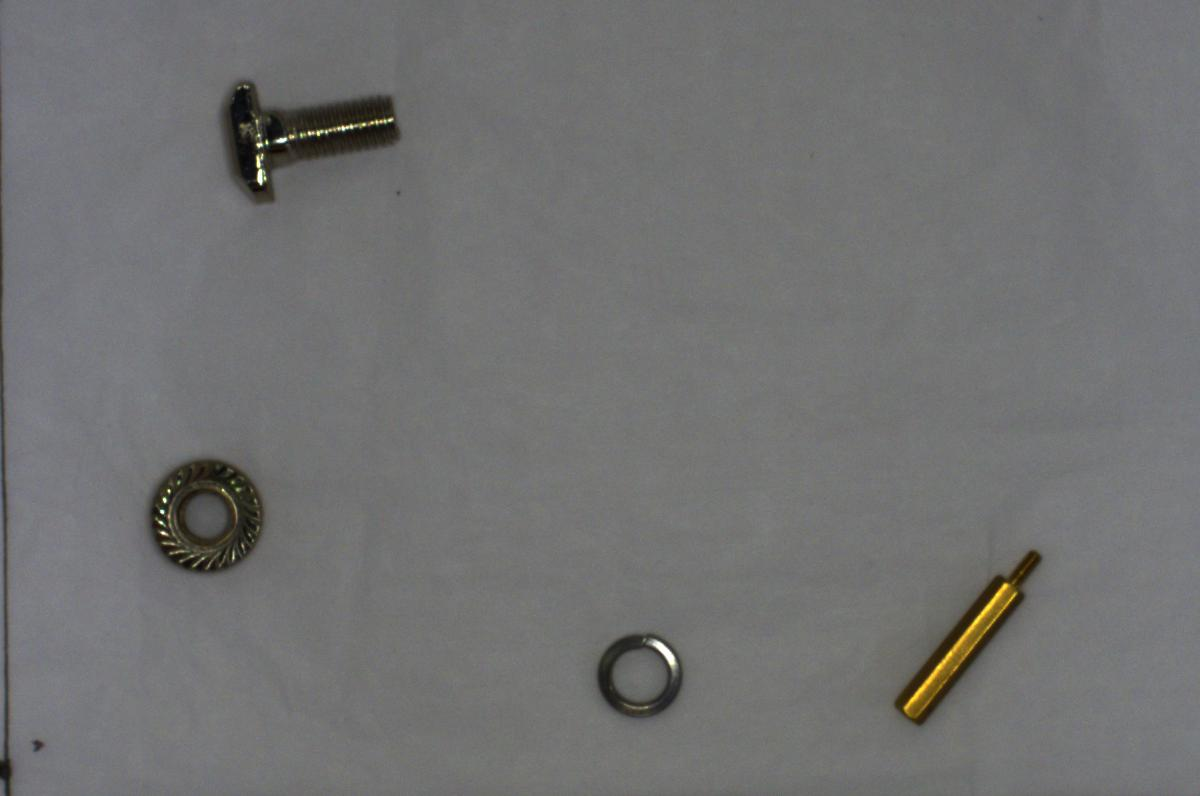Flange nut: (135, 449, 273, 575)
Hexagon pillar: (887, 542, 1050, 732)
Spring washer: (582, 625, 693, 721)
T-shaped screw: (219, 67, 408, 199)
